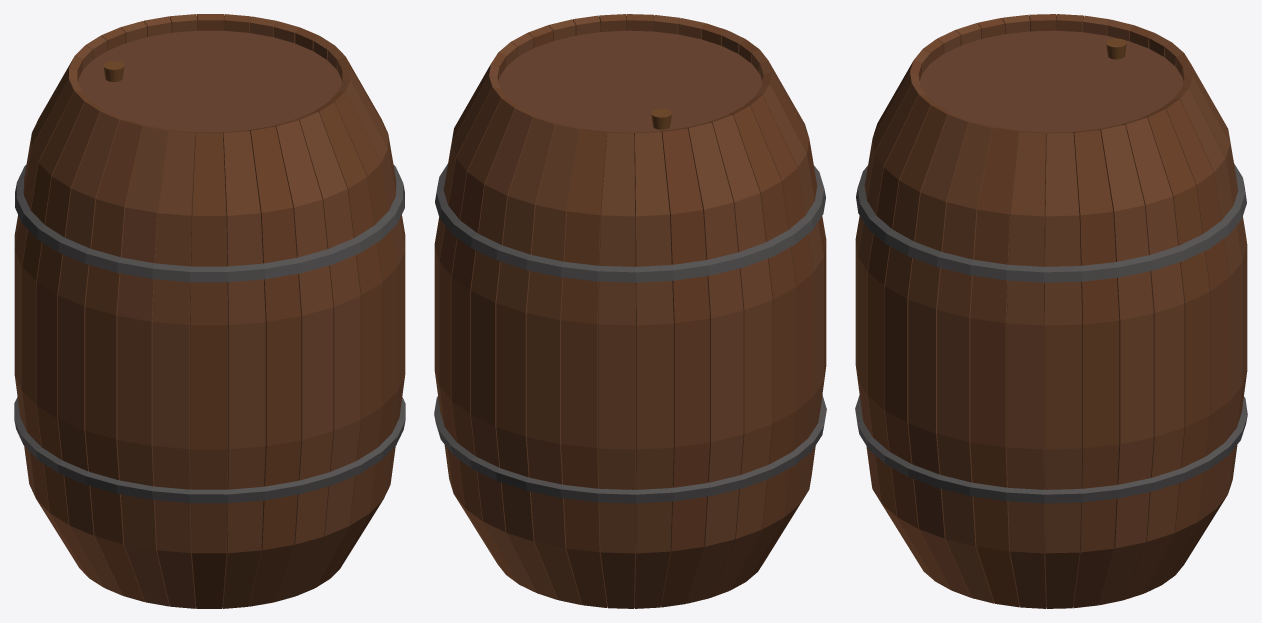
The model's file is Shop_barrel.fbx.
3 views of the same model, side by side, from view 1: azimuth 30°, elevation 25°; view 2: azimuth 150°, elevation 25°; view 3: azimuth 270°, elevation 25° (orthographic).
Parts seen in each view (by area): view 1: Barrel.002; view 2: Barrel.002; view 3: Barrel.002.
Part boxes in pixels (left/top/right/bottom): Barrel.002: left=14, top=14, right=405, bottom=608; Barrel.002: left=434, top=14, right=826, bottom=608; Barrel.002: left=855, top=14, right=1247, bottom=608.
Size of the model in its own units: 81.86 by 110 by 81.86.
